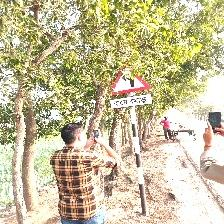Left-Turn: (109, 70, 153, 109)
